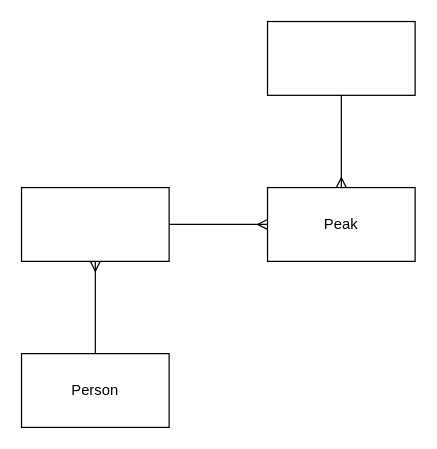
Image size: 437x449. Some labels were removed from this diagram. The shapes that lost their labels are listed below. From the top down, each one's box as (x1, y1, x2, y2) in pixels, then its label:
(266, 20, 415, 95): Locus
(20, 186, 169, 261): Sample
